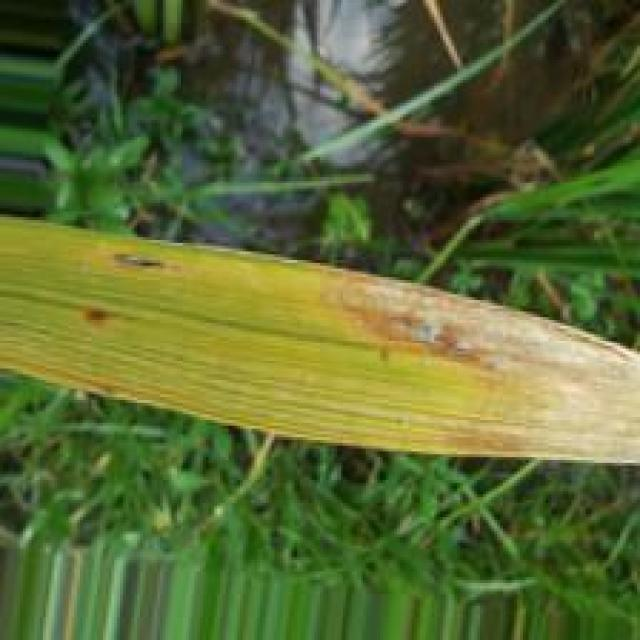Leaf_Scald: (298, 268, 640, 470)
